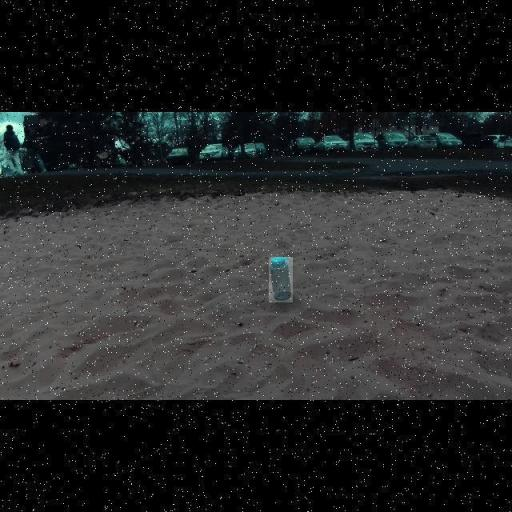bottle: (269, 257, 293, 302)
